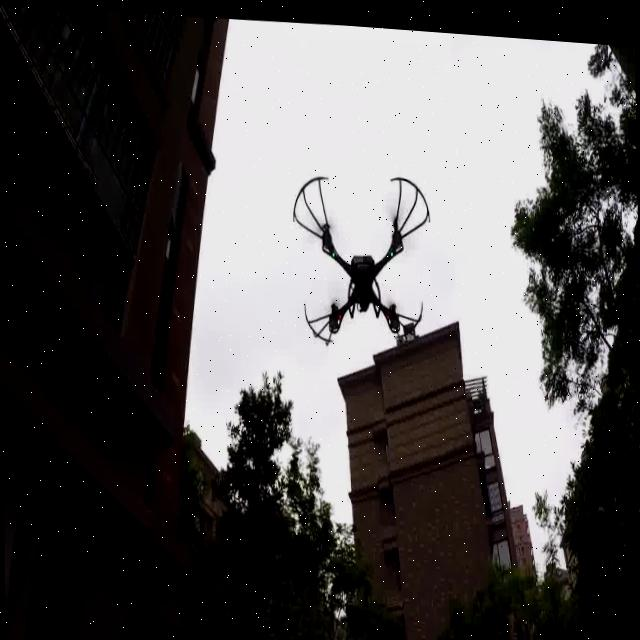drone: (283, 155, 441, 371)
